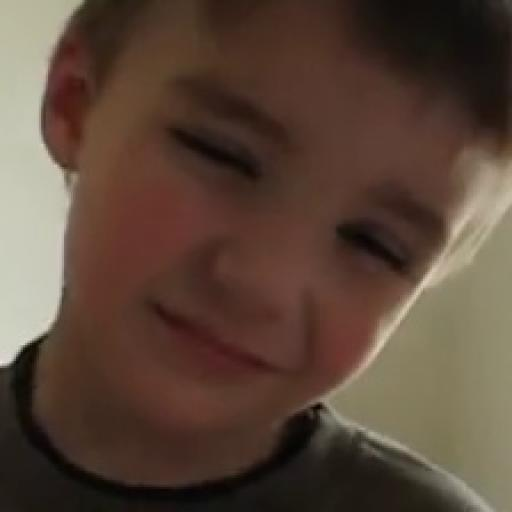Autism: (56, 5, 465, 482)
